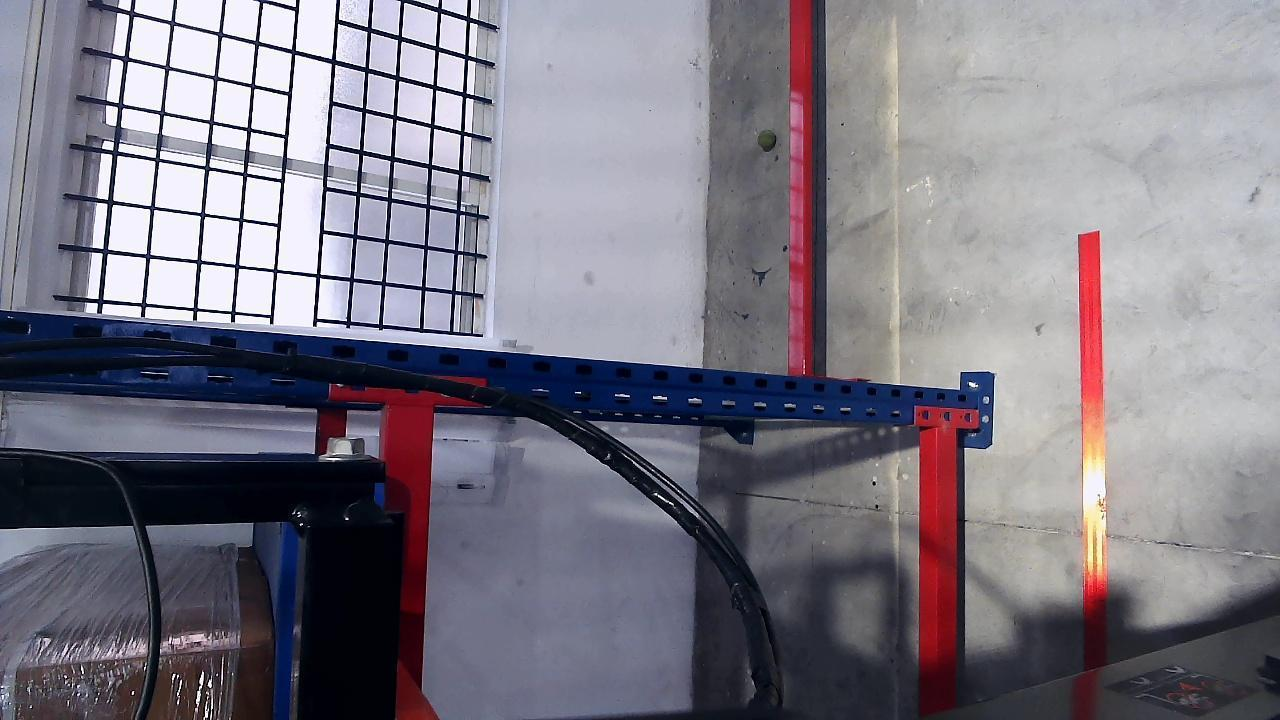red_line: (1078, 231, 1107, 695)
